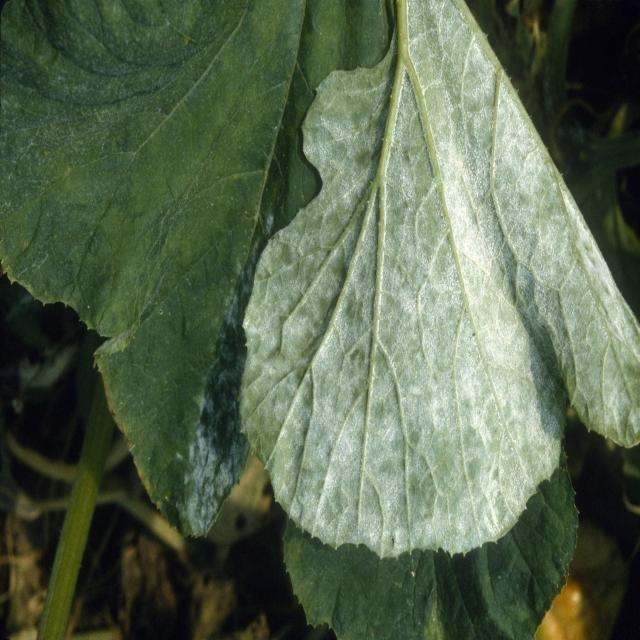Powdery Mildew: (236, 1, 638, 560)
